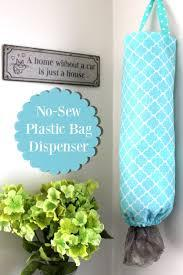Organic: (0, 172, 110, 260)
Textile: (114, 5, 176, 262)
